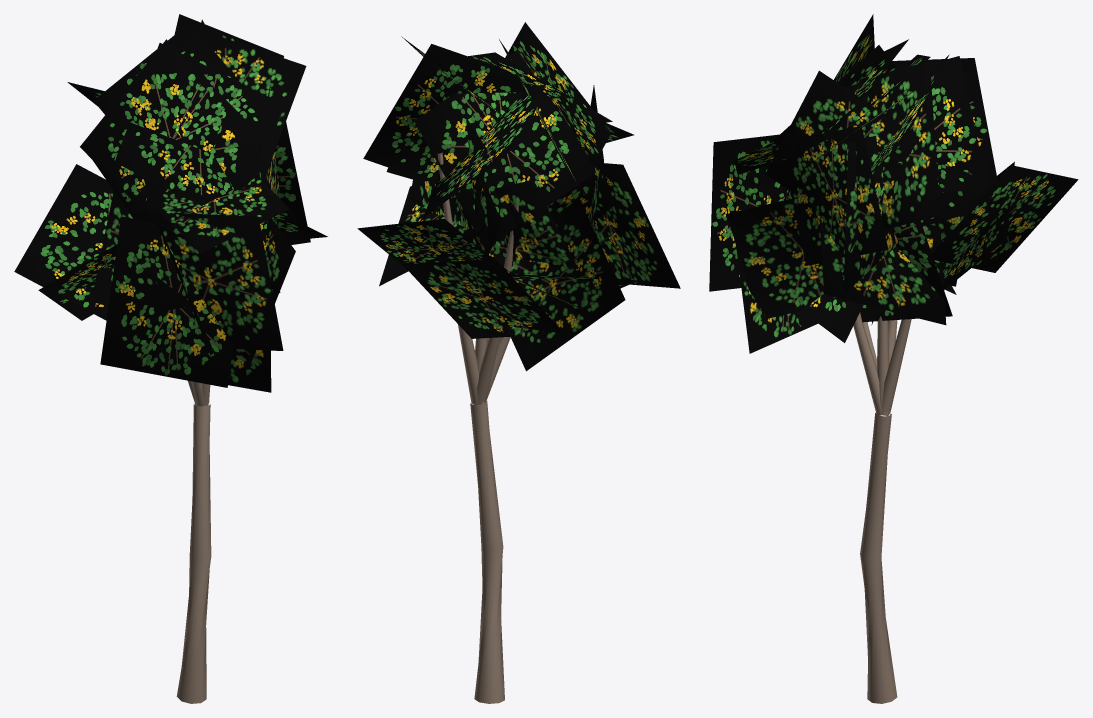
File: paubrasilia-echinata.glb
3 renders of one model, left to right at view 1: azimuth 30°, elevation 25°; view 2: azimuth 150°, elevation 25°; view 3: azimuth 270°, elevation 25°, orthographic.
Visible parts, largest first — view 1: folhas, tronco; view 2: folhas, tronco; view 3: folhas, tronco.
Boxes of the visible parts, bbox=[...] form: folhas: bbox=[14, 14, 327, 392]; tronco: bbox=[176, 380, 211, 703]; folhas: bbox=[357, 22, 680, 371]; tronco: bbox=[437, 152, 518, 703]; folhas: bbox=[709, 14, 1078, 353]; tronco: bbox=[853, 226, 925, 703].
Bounding box in the file's own units: 4.71 × 12 × 6.
2 materials, 1 textured.
